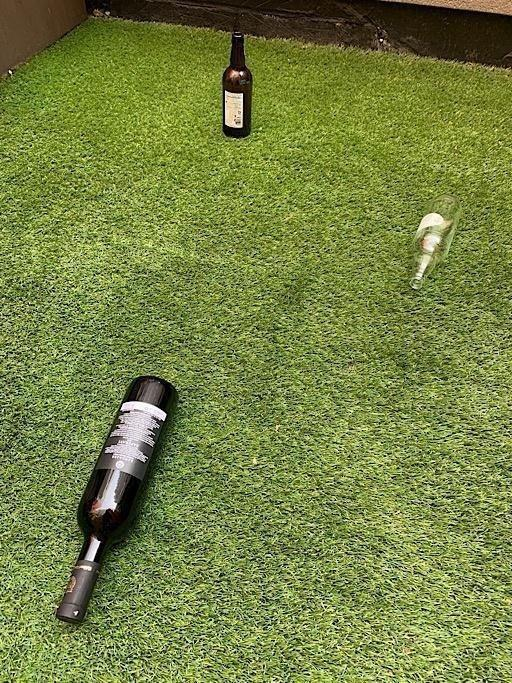bottle-glass: (56, 373, 178, 623), (409, 191, 461, 290), (221, 31, 254, 138)
